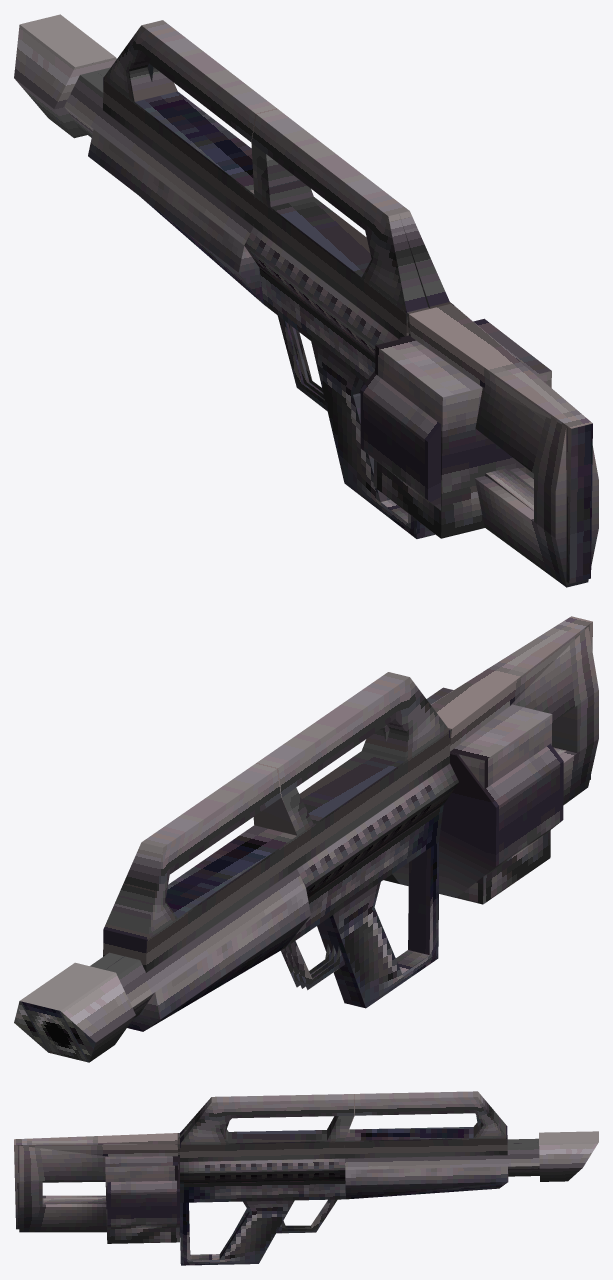
The model's file is recovered_gun_jackhammer.glb.
3 views of the same model, one above another, from view 1: azimuth 30°, elevation 25°; view 2: azimuth 150°, elevation 25°; view 3: azimuth 270°, elevation 25° (orthographic). The views are drawn at different scales.
Visible parts, largest first — view 1: Gun_df2b1f4a47e4; view 2: Gun_df2b1f4a47e4; view 3: Gun_df2b1f4a47e4.
Boxes of the visible parts, x1,y1,x2,y2 form: Gun_df2b1f4a47e4: (14,14,598,587); Gun_df2b1f4a47e4: (14,616,598,1062); Gun_df2b1f4a47e4: (14,1091,598,1265).
Bounding box in the file's own units: 0.1131 × 0.2487 × 0.7825.
Materials: 1 (1 with a texture image).
